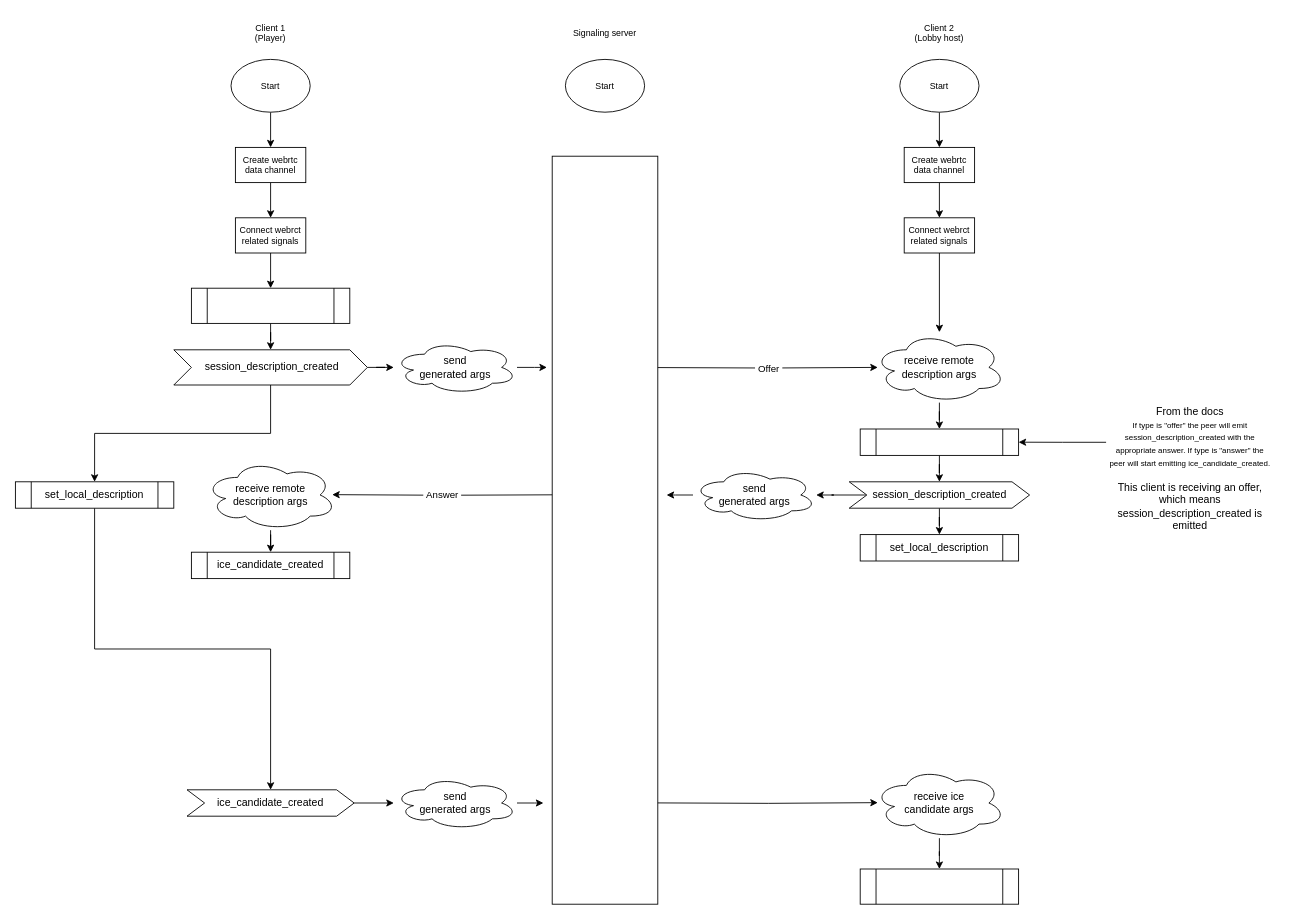
Image size: 1289x920. Some labels were removed from this diagram. Each missing label, with the centre of its shape:
"add_ice_candidate" goes at [939,886].
"create_offer() (aka init connection sequence)" goes at [270,305].
"Forward traffic between clients" goes at [604,529].
"set_remote_description" goes at [939,441].
